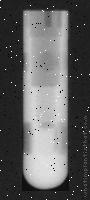Camlog: (22, 10, 69, 191)
